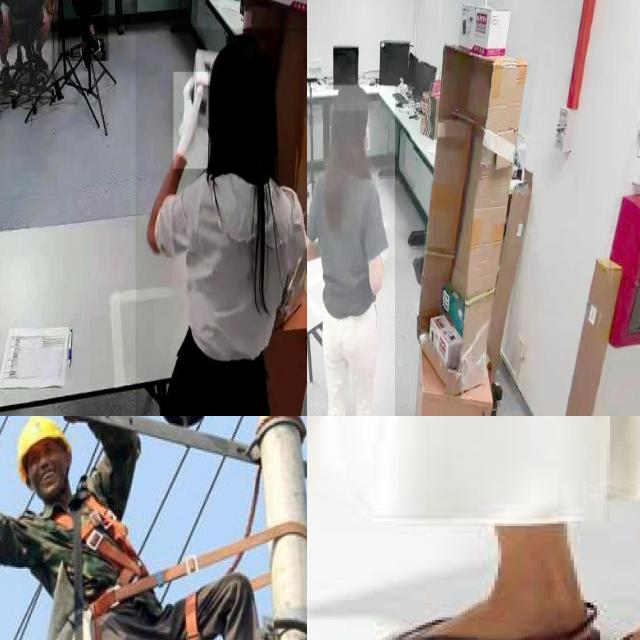Harness: (79, 495, 164, 616), (53, 512, 78, 532)
Sandals: (313, 547, 640, 640)
hand_glove: (174, 72, 208, 168)
head_nohelmet: (207, 30, 277, 98), (332, 83, 369, 112)
person: (135, 28, 307, 416), (307, 85, 395, 416), (0, 0, 52, 96), (58, 0, 109, 62)
